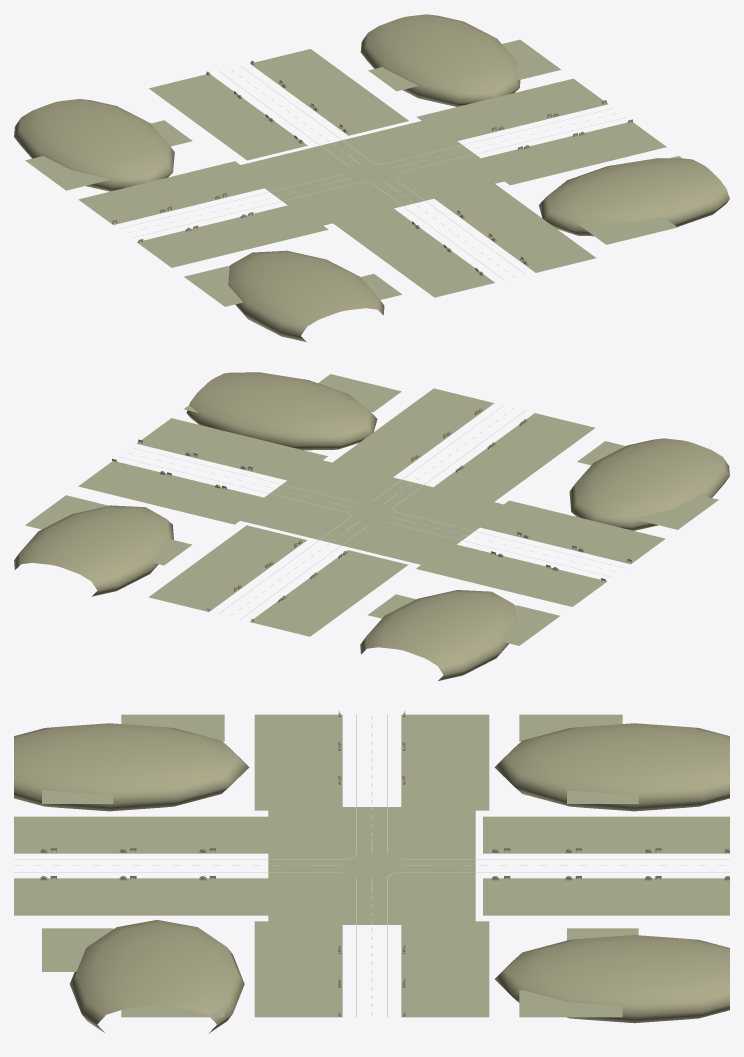
3 views of the same model, one above another, from view 1: azimuth 30°, elevation 25°; view 2: azimuth 150°, elevation 25°; view 3: azimuth 270°, elevation 25° (orthographic). The views are drawn at different scales.
Visible parts, largest first — view 1: static; view 2: static; view 3: static.
Part boxes in pixels (x1,y1,x2,y2): static: (14,14,729,341); static: (14,372,729,680); static: (14,711,729,1033).
Size of what is drawn, in the model's own units: 180 by 14.08 by 180.
